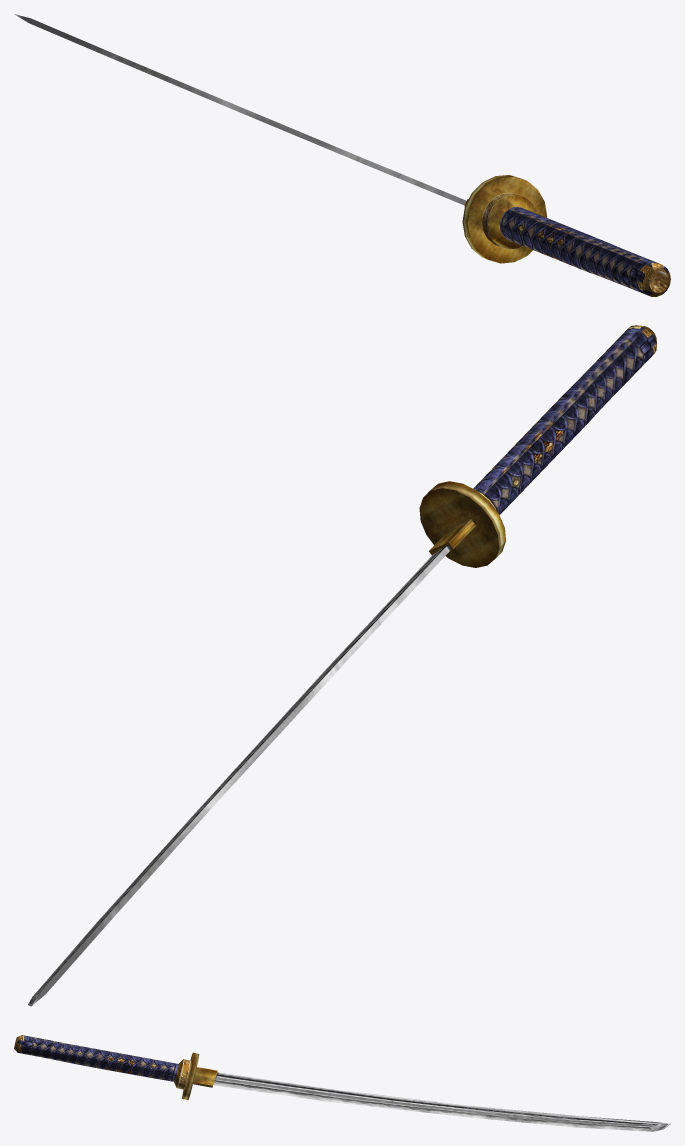
The model's file is Katana Japanese Sword.glb.
3 views of the same model, one above another, from view 1: azimuth 30°, elevation 25°; view 2: azimuth 150°, elevation 25°; view 3: azimuth 270°, elevation 25° (orthographic). The views are drawn at different scales.
Visible parts, largest first — view 1: Object001_03 - Default_0, Object001_02 - Default_0, Object001_01 - Default_0; view 2: Object001_03 - Default_0, Object001_01 - Default_0, Object001_02 - Default_0; view 3: Object001_01 - Default_0, Object001_03 - Default_0, Object001_02 - Default_0.
Part boxes in pixels (box(x1,y1,x2,y2)): Object001_03 - Default_0: box(500, 207, 670, 296); Object001_02 - Default_0: box(462, 175, 547, 263); Object001_01 - Default_0: box(14, 14, 466, 205); Object001_03 - Default_0: box(473, 325, 656, 514); Object001_01 - Default_0: box(28, 545, 451, 1006); Object001_02 - Default_0: box(419, 481, 505, 567); Object001_01 - Default_0: box(213, 1072, 670, 1131); Object001_03 - Default_0: box(14, 1035, 178, 1081); Object001_02 - Default_0: box(174, 1052, 217, 1100).
Bounding box in the file's own units: 0.7905 × 1.71 × 10.
Materials: 3 (3 with a texture image).
